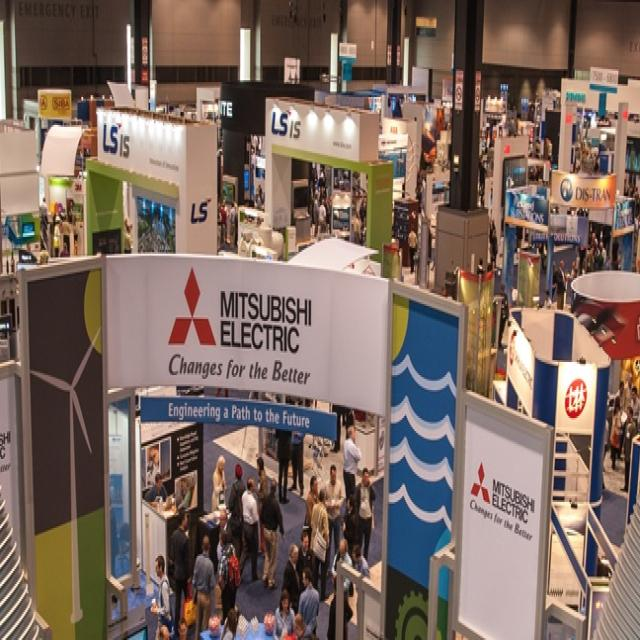body: (478, 99, 614, 203), (217, 132, 268, 255), (312, 160, 370, 247), (578, 206, 639, 274), (35, 192, 87, 265), (258, 474, 286, 591), (322, 461, 347, 578), (169, 506, 191, 638), (308, 483, 332, 603), (190, 532, 216, 638), (215, 528, 242, 629), (223, 461, 248, 563), (239, 476, 262, 584), (353, 466, 376, 566), (149, 552, 173, 640), (325, 573, 355, 638), (618, 401, 638, 495), (252, 455, 270, 556), (297, 565, 321, 640), (330, 536, 353, 606), (342, 424, 362, 504), (274, 428, 294, 508), (600, 396, 616, 490), (282, 543, 302, 618), (608, 394, 626, 474), (288, 429, 308, 500), (351, 541, 371, 612), (294, 528, 314, 592), (272, 588, 295, 640), (210, 453, 228, 517), (305, 474, 320, 550), (330, 403, 353, 452), (496, 282, 511, 351), (145, 470, 170, 510), (220, 602, 241, 640), (174, 474, 192, 511), (556, 258, 568, 312), (406, 224, 418, 274), (622, 174, 639, 207), (124, 211, 136, 254), (489, 228, 499, 270), (614, 379, 626, 414), (550, 258, 559, 304), (488, 215, 497, 258), (630, 384, 640, 422), (540, 287, 553, 312), (569, 257, 578, 282), (476, 256, 487, 276)
